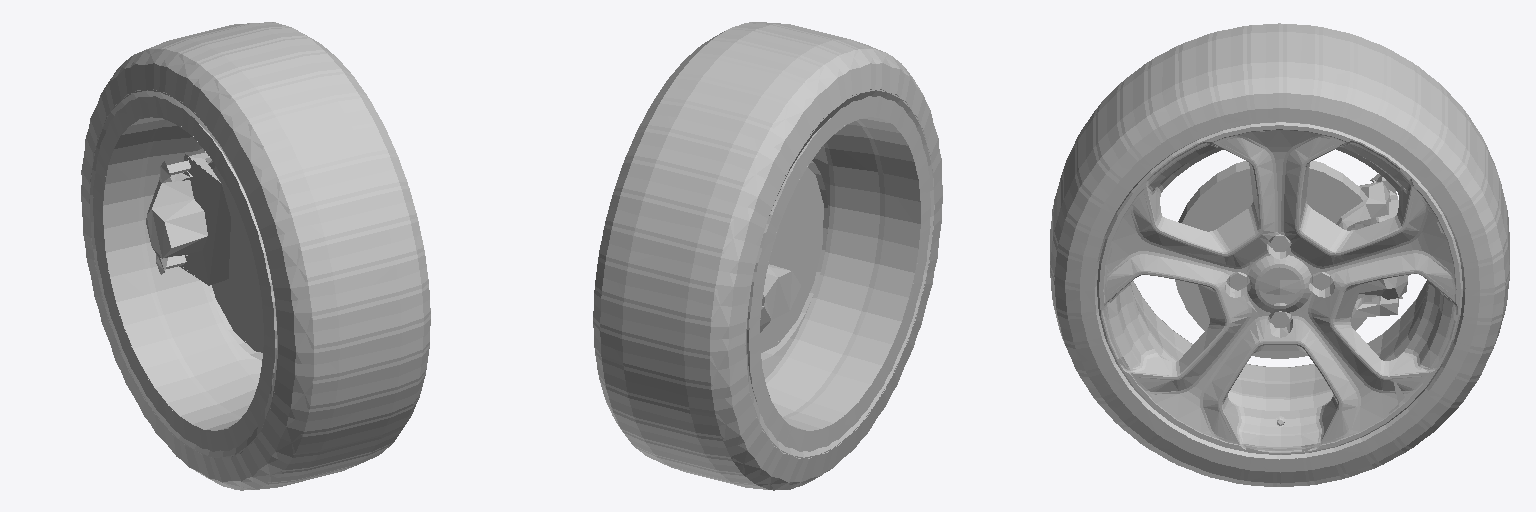
File: llantafist.obj
The picture shows the model from 3 angles: view 1: azimuth 30°, elevation 25°; view 2: azimuth 150°, elevation 25°; view 3: azimuth 270°, elevation 25°; orthographic projection.
Parts seen in each view (by area): view 1: tyre_lf, rim_lf, caliper_lf; view 2: tyre_lf, rim_lf, caliper_lf; view 3: rim_lf, tyre_lf, caliper_lf.
Part boxes in pixels (left/top/right/bottom): tyre_lf: left=81, top=22, right=430, bottom=490; rim_lf: left=93, top=96, right=276, bottom=451; caliper_lf: left=146, top=152, right=230, bottom=285; tyre_lf: left=593, top=22, right=942, bottom=490; rim_lf: left=747, top=96, right=930, bottom=451; caliper_lf: left=760, top=264, right=800, bottom=332; rim_lf: left=1097, top=122, right=1462, bottom=454; tyre_lf: left=1050, top=23, right=1509, bottom=486; caliper_lf: left=1336, top=174, right=1408, bottom=318.
Bounding box in the file's own units: 0.2241 × 0.6081 × 0.6077.